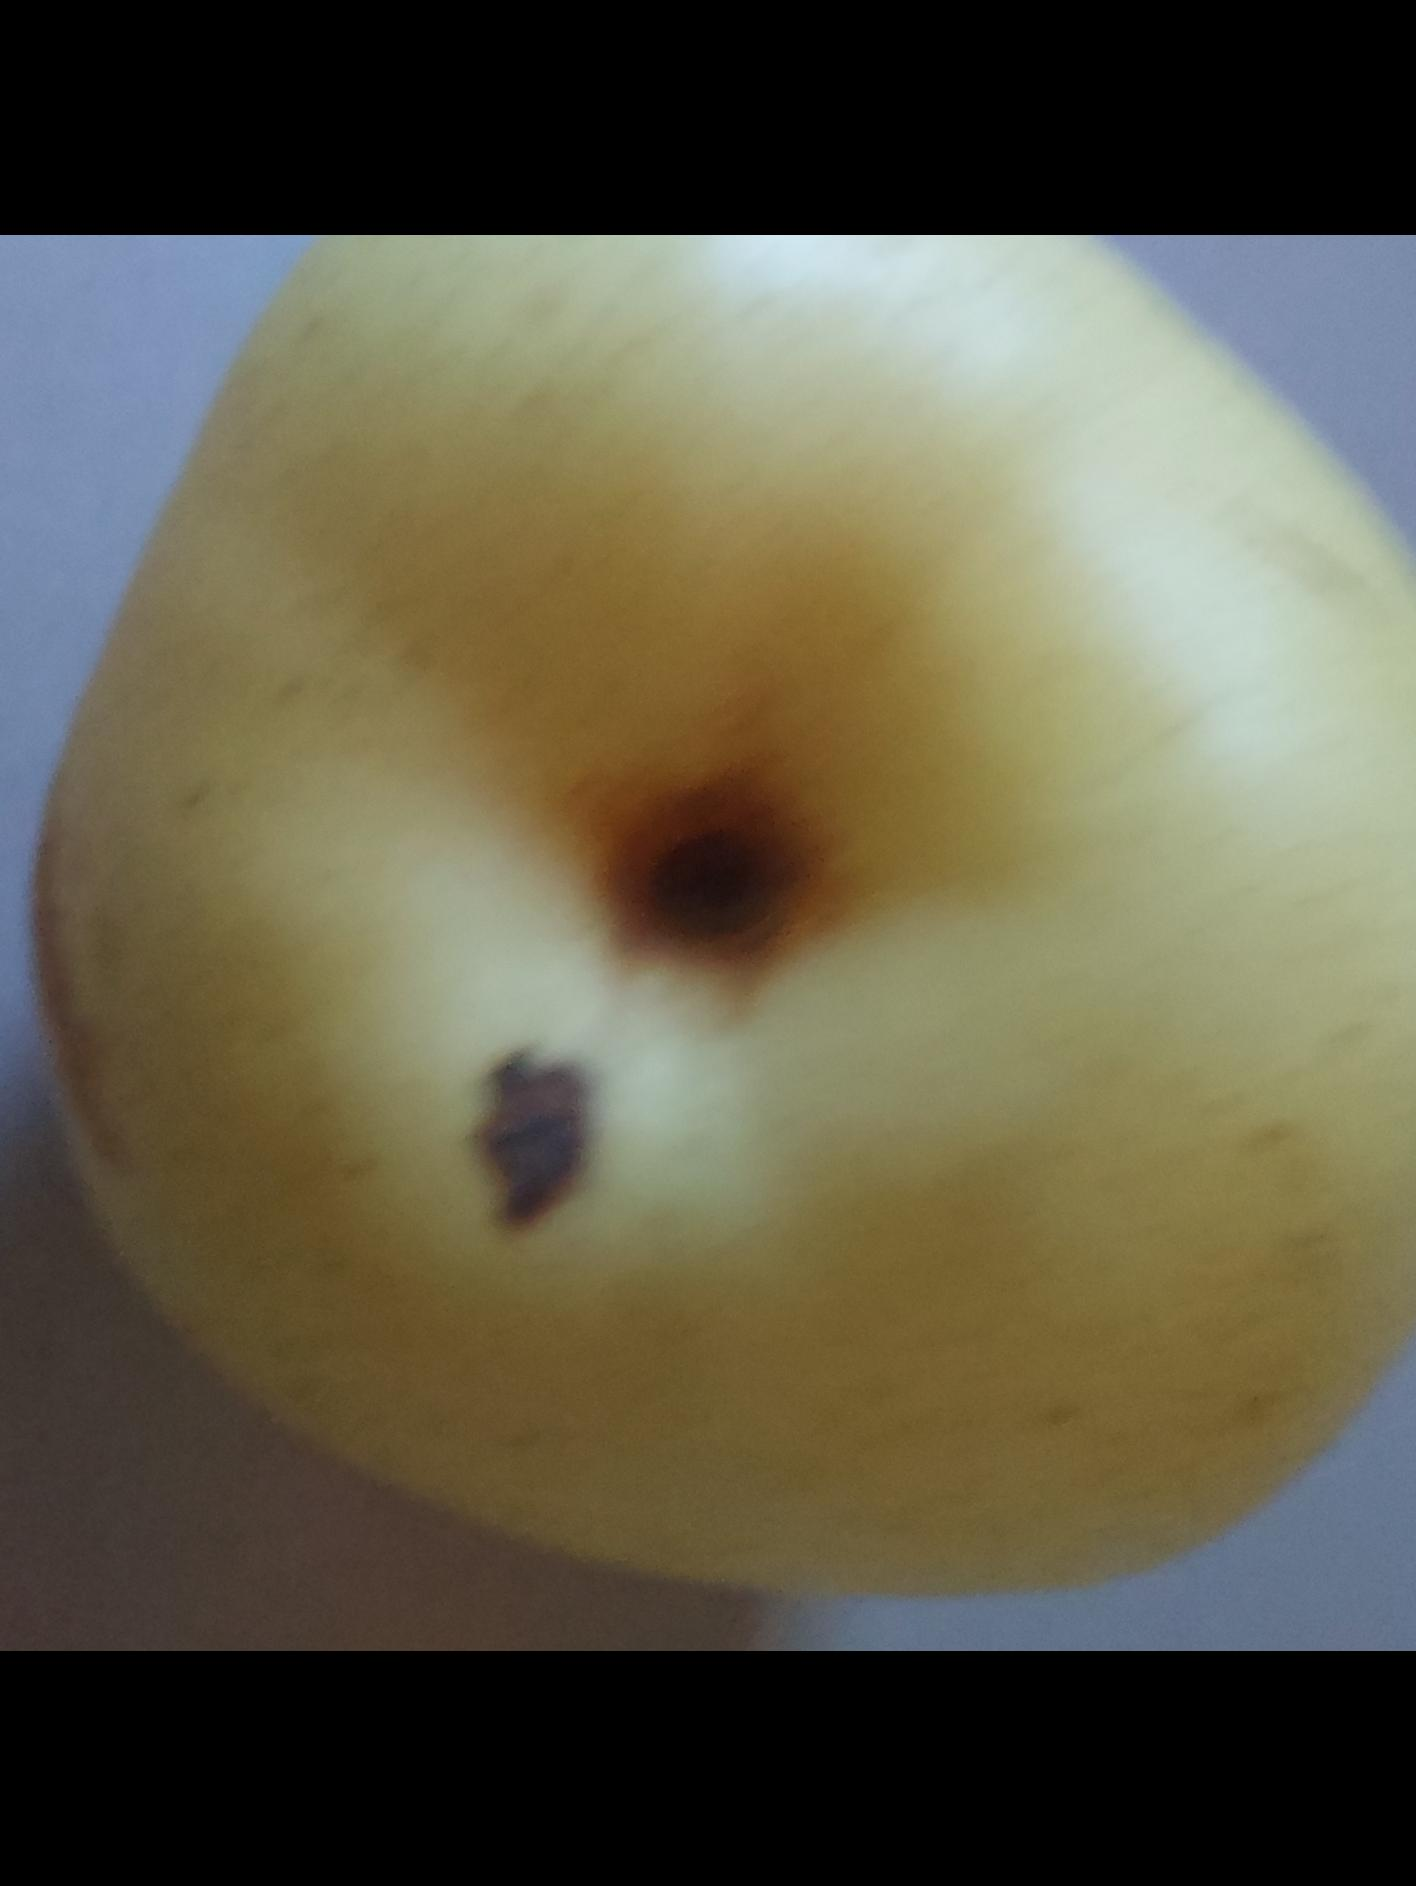Good Pear: (0, 235, 1416, 1620)
